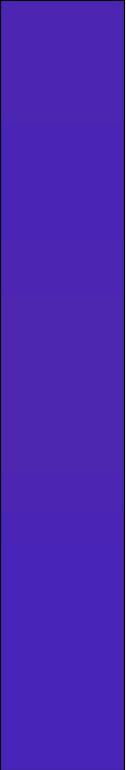safe: (8, 11, 118, 755)
